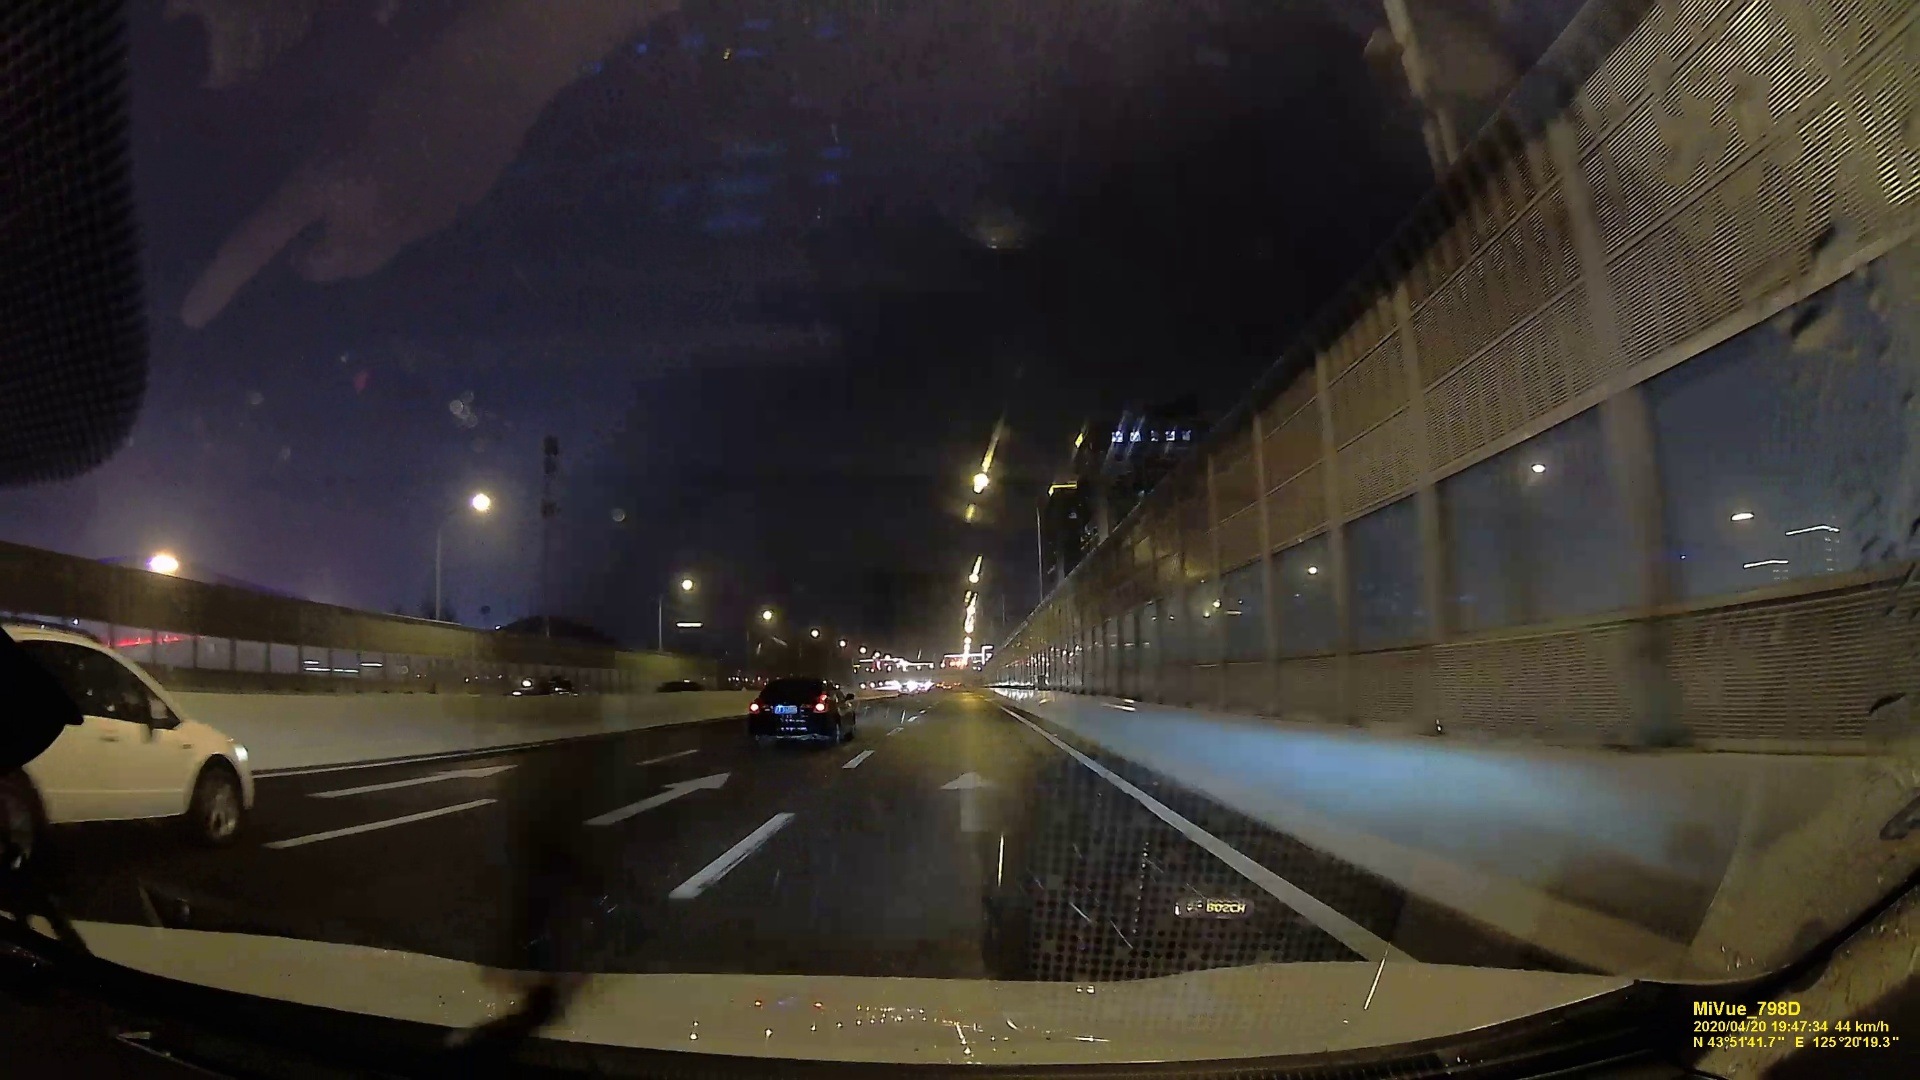vehicle: (0, 618, 264, 862), (745, 674, 858, 745)
